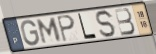B: (113, 7, 137, 37)
G: (20, 19, 41, 47)
L: (77, 13, 98, 41)
M: (36, 17, 63, 45)
P: (56, 14, 77, 44)
S: (95, 9, 117, 39)
